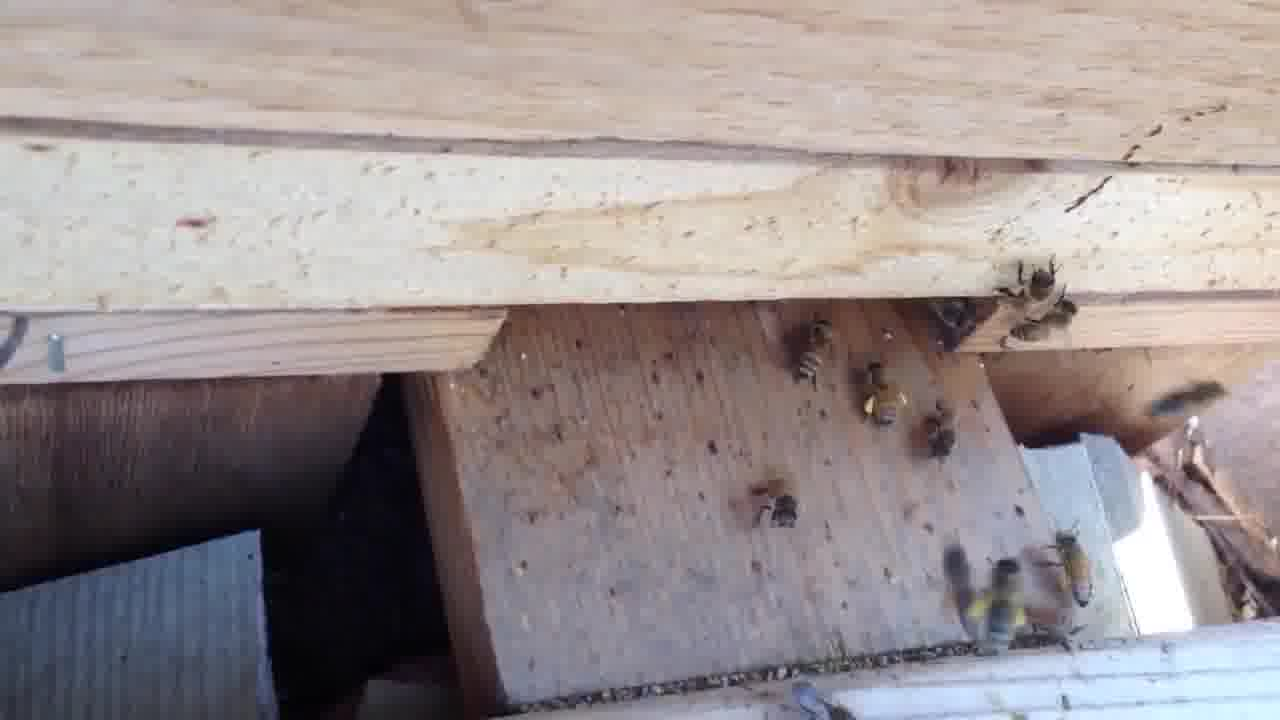pollen: (965, 548, 1035, 652), (855, 361, 909, 431)
